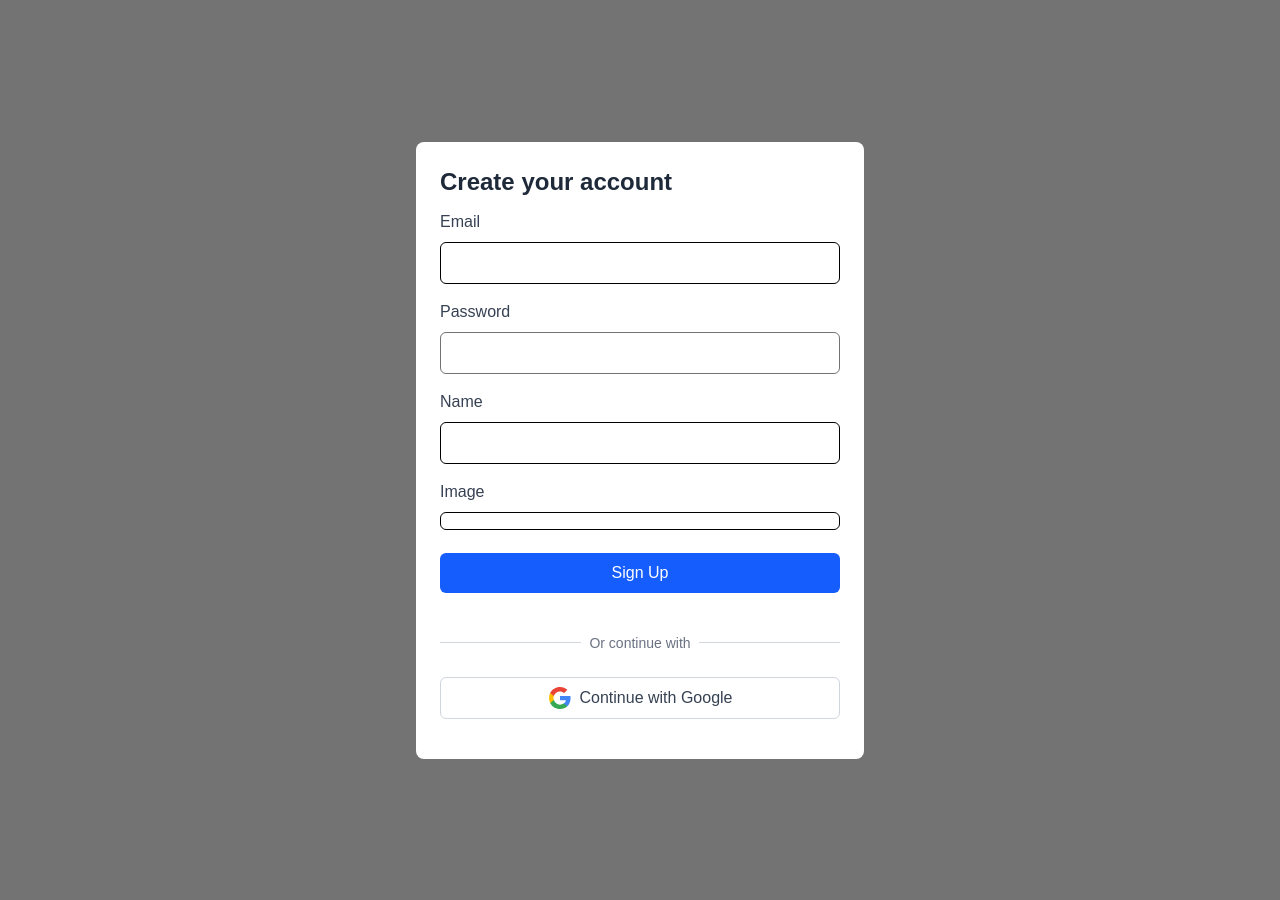
Test: SignUp Component › updates input values correctly
In the field labelled "Email": (640, 262) [440,242,840,284], type "test@example.com"
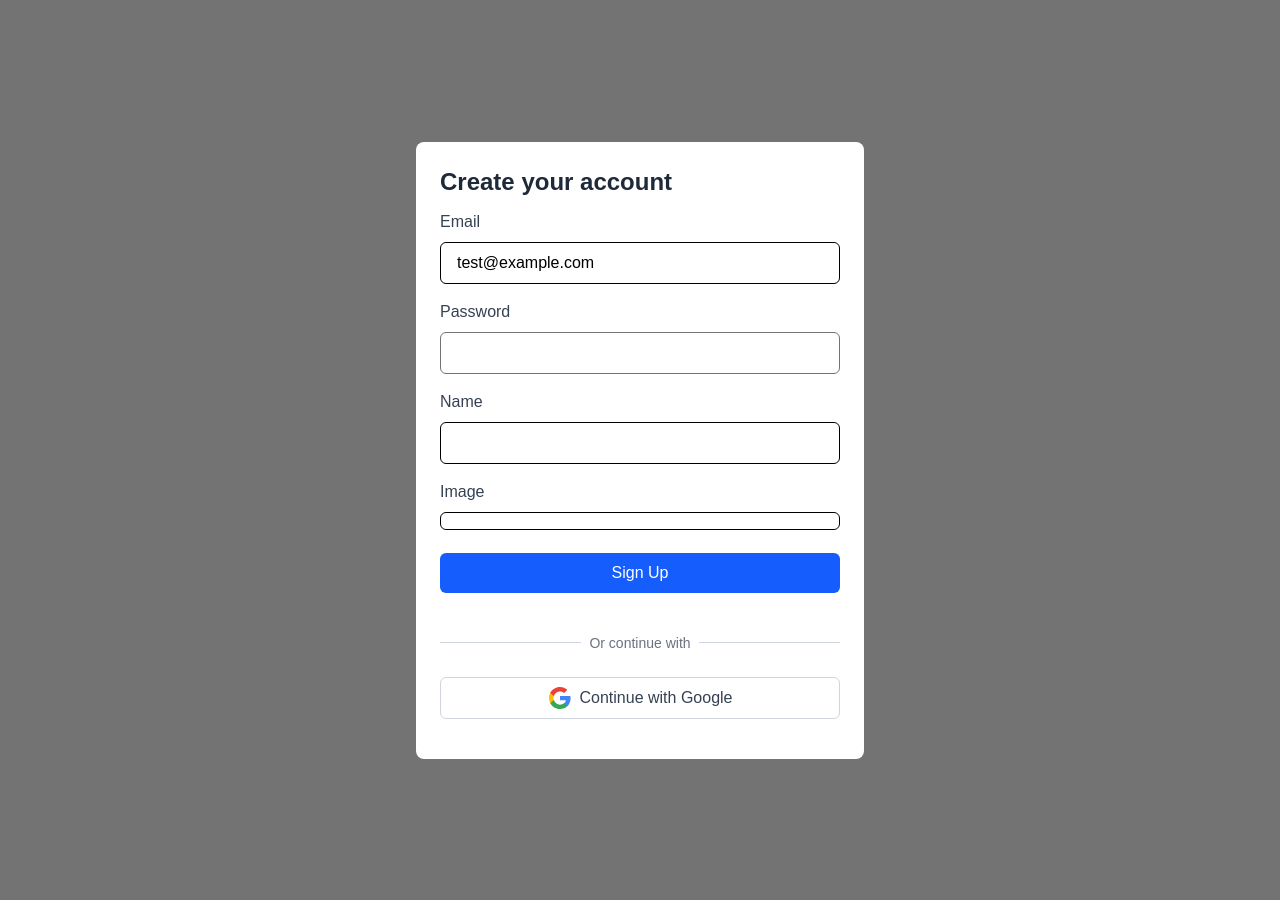
In the password field labelled "Password": (640, 352) [440,332,840,374], type "password123"
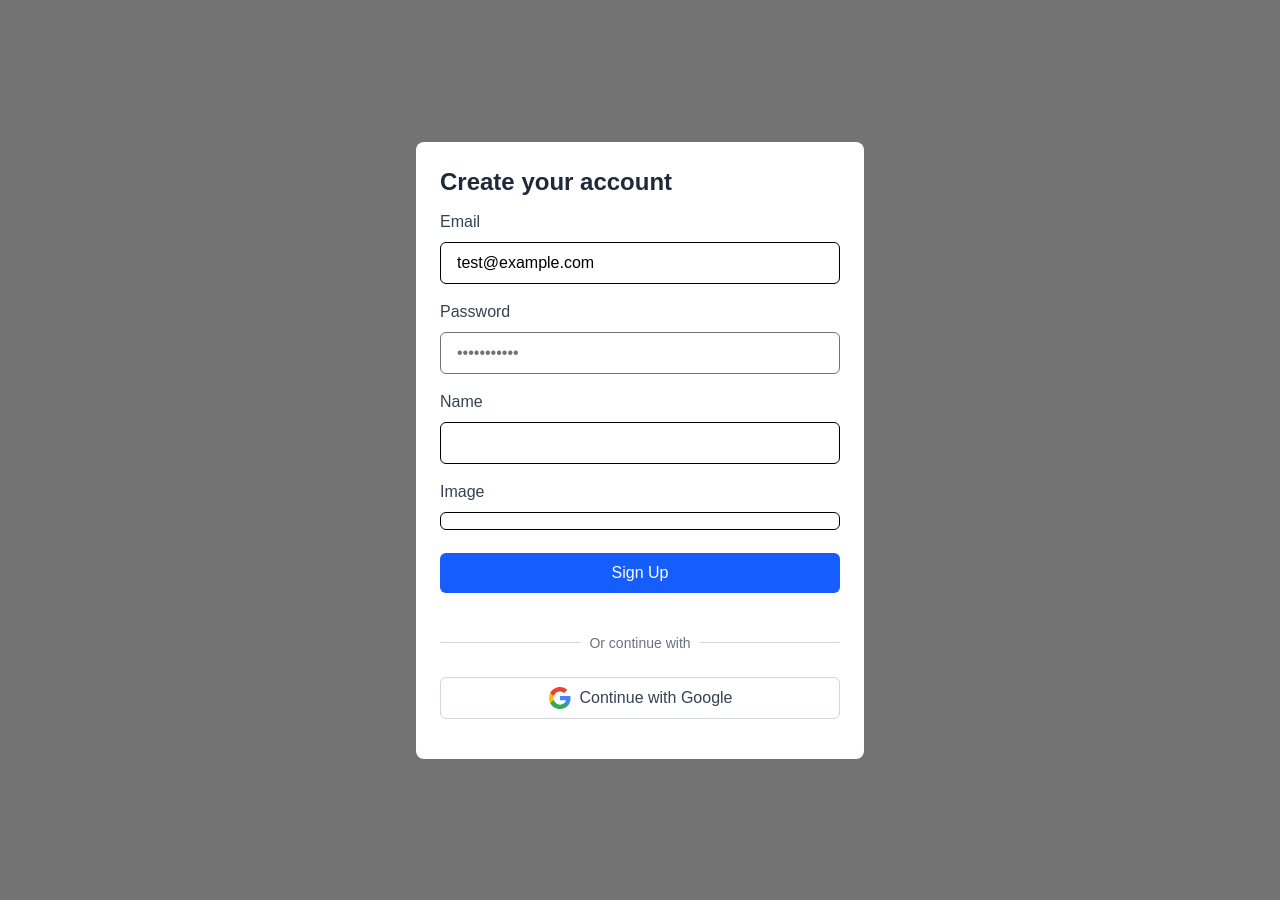
In the field labelled "Name": (640, 442) [440,422,840,464], type "Test User"
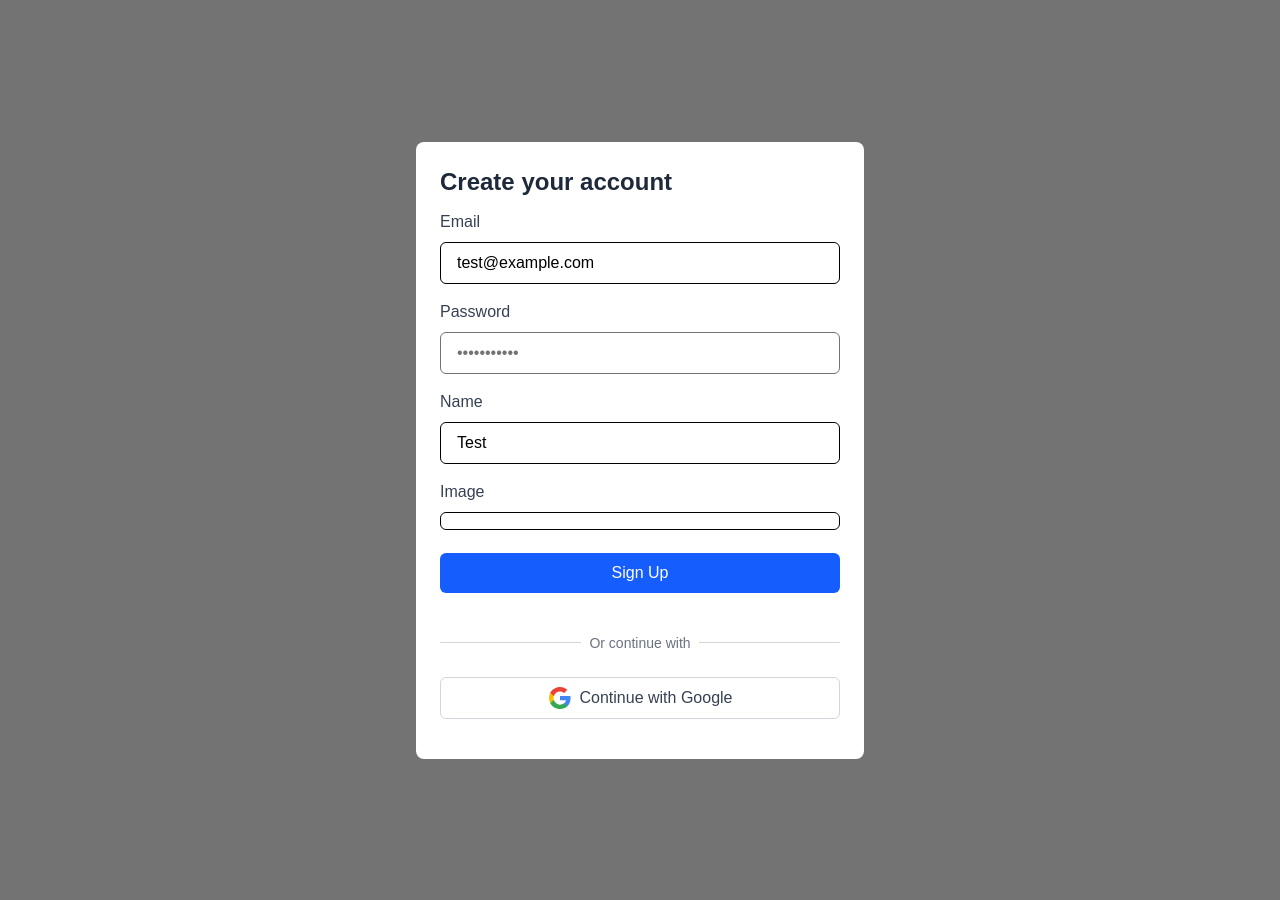
Expected: the field labelled "Name" holds "Test", [440,422,840,464]
